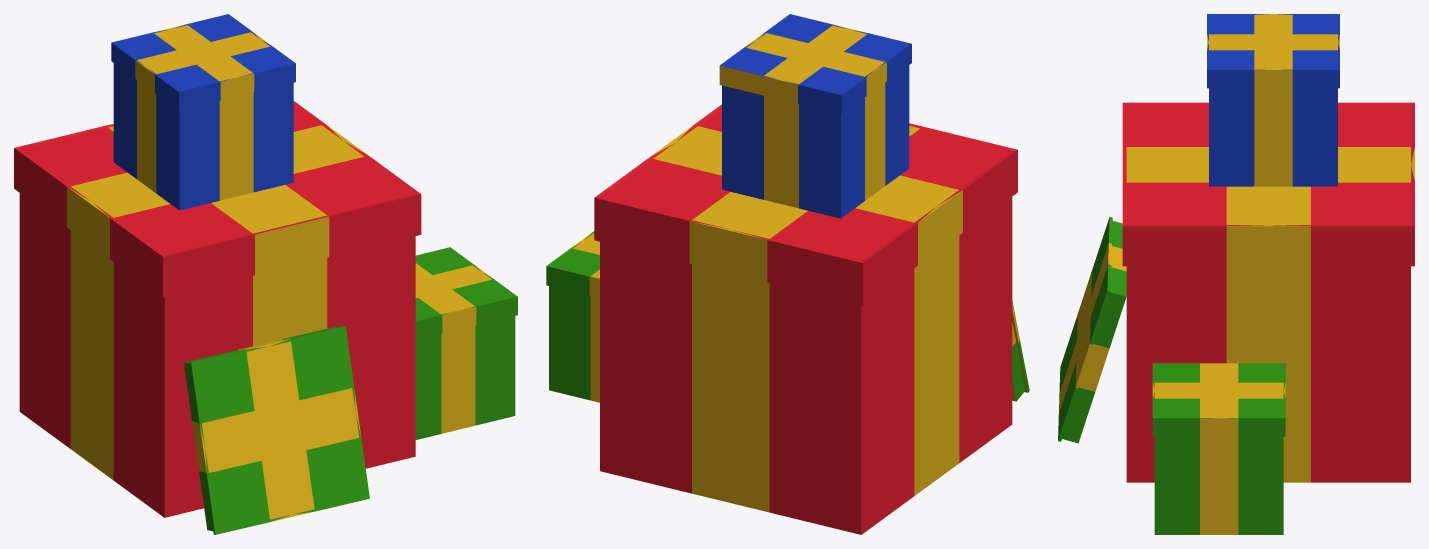
The model's file is Present.fbx.
The picture shows the model from 3 angles, left to right: view 1: azimuth 30°, elevation 25°; view 2: azimuth 150°, elevation 25°; view 3: azimuth 270°, elevation 25°; orthographic projection. The views are drawn at different scales.
Parts seen in each view (by area): view 1: Cube; view 2: Cube; view 3: Cube.
Boxes of the visible parts, <box> form: Cube: <box>14,14,517,534</box>; Cube: <box>546,14,1029,534</box>; Cube: <box>1058,14,1414,534</box>.
Bounding box in the file's own units: 126 × 125 × 108.
